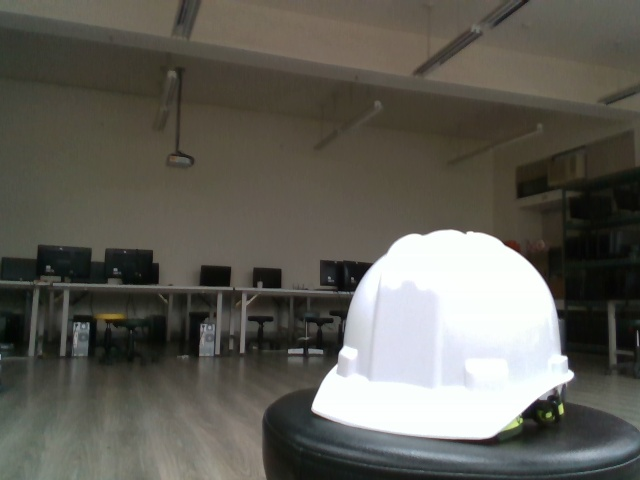helmet: (314, 229, 578, 445)
